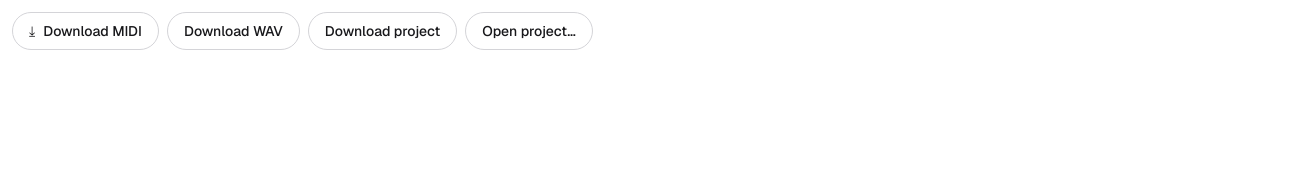
Test: Download MIDI › shows the error and keeps the song when the export fails
The width and height of the screenshot is (1292, 172).
Click the button "⤓ Download MIDI". click: (86, 31)
box: 12,12 -> 159,50
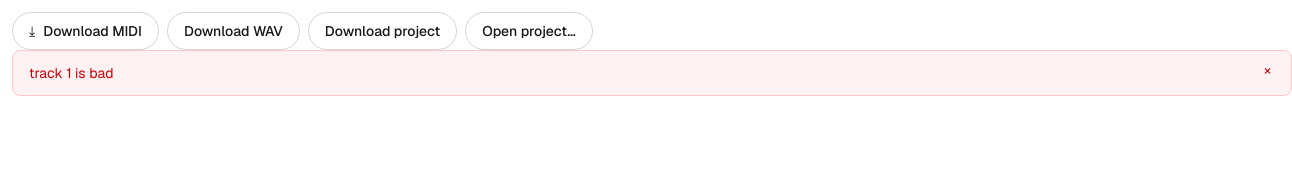
Now the message shows "track 1 is bad", box 29,64 -> 114,82
